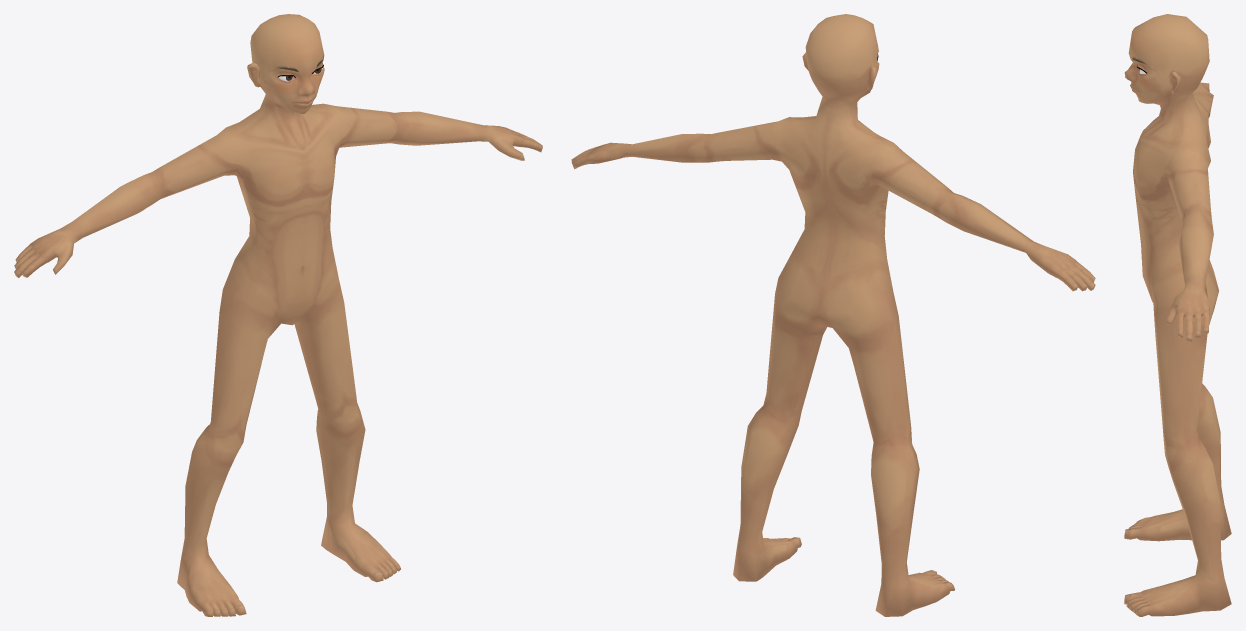
The model's file is body3.glb.
3 views of the same model, side by side, from view 1: azimuth 30°, elevation 25°; view 2: azimuth 150°, elevation 25°; view 3: azimuth 270°, elevation 25° (orthographic). The views are drawn at different scales.
Visible parts, largest first — view 1: BaseBody; view 2: BaseBody; view 3: BaseBody.
Part boxes in pixels (x1=…): BaseBody: x1=14, y1=14, x2=542, y2=616; BaseBody: x1=571, y1=14, x2=1095, y2=616; BaseBody: x1=1124, y1=14, x2=1231, y2=616.
Bounding box in the file's own units: 166 × 170 × 30.11.
Materials: 1 (1 with a texture image).
